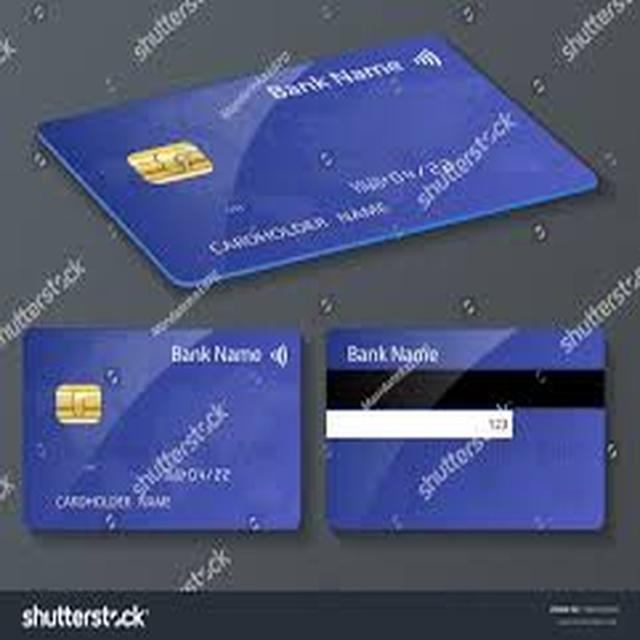card: (48, 15, 575, 284), (308, 307, 620, 540), (11, 313, 318, 536)
